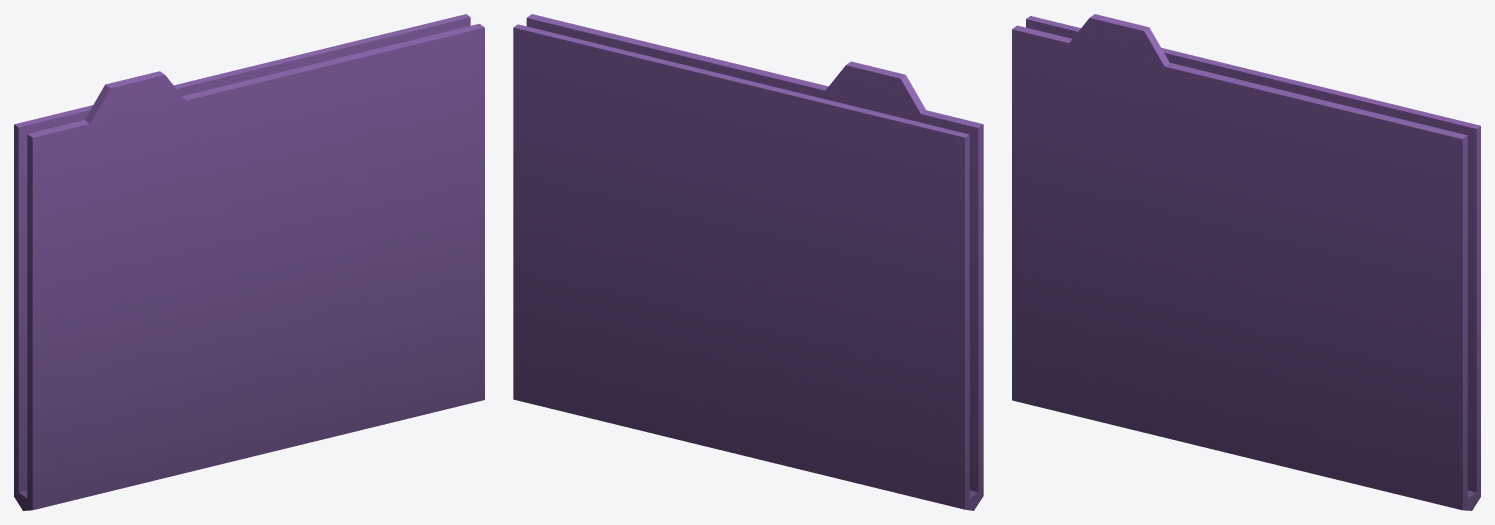
Rendered from Paper_FilingFolder_Purple.fbx.
3 views of the same model, side by side, from view 1: azimuth 30°, elevation 25°; view 2: azimuth 150°, elevation 25°; view 3: azimuth 330°, elevation 25° (orthographic).
Parts seen in each view (by area): view 1: Paper_FilingFolder_Purple; view 2: Paper_FilingFolder_Purple; view 3: Paper_FilingFolder_Purple.
Part boxes in pixels (x1,y1,x2,y2): Paper_FilingFolder_Purple: (14, 14, 484, 510); Paper_FilingFolder_Purple: (513, 14, 983, 510); Paper_FilingFolder_Purple: (1012, 14, 1480, 510).
Bounding box in the file's own units: 30.06 × 26.09 × 2.13.
